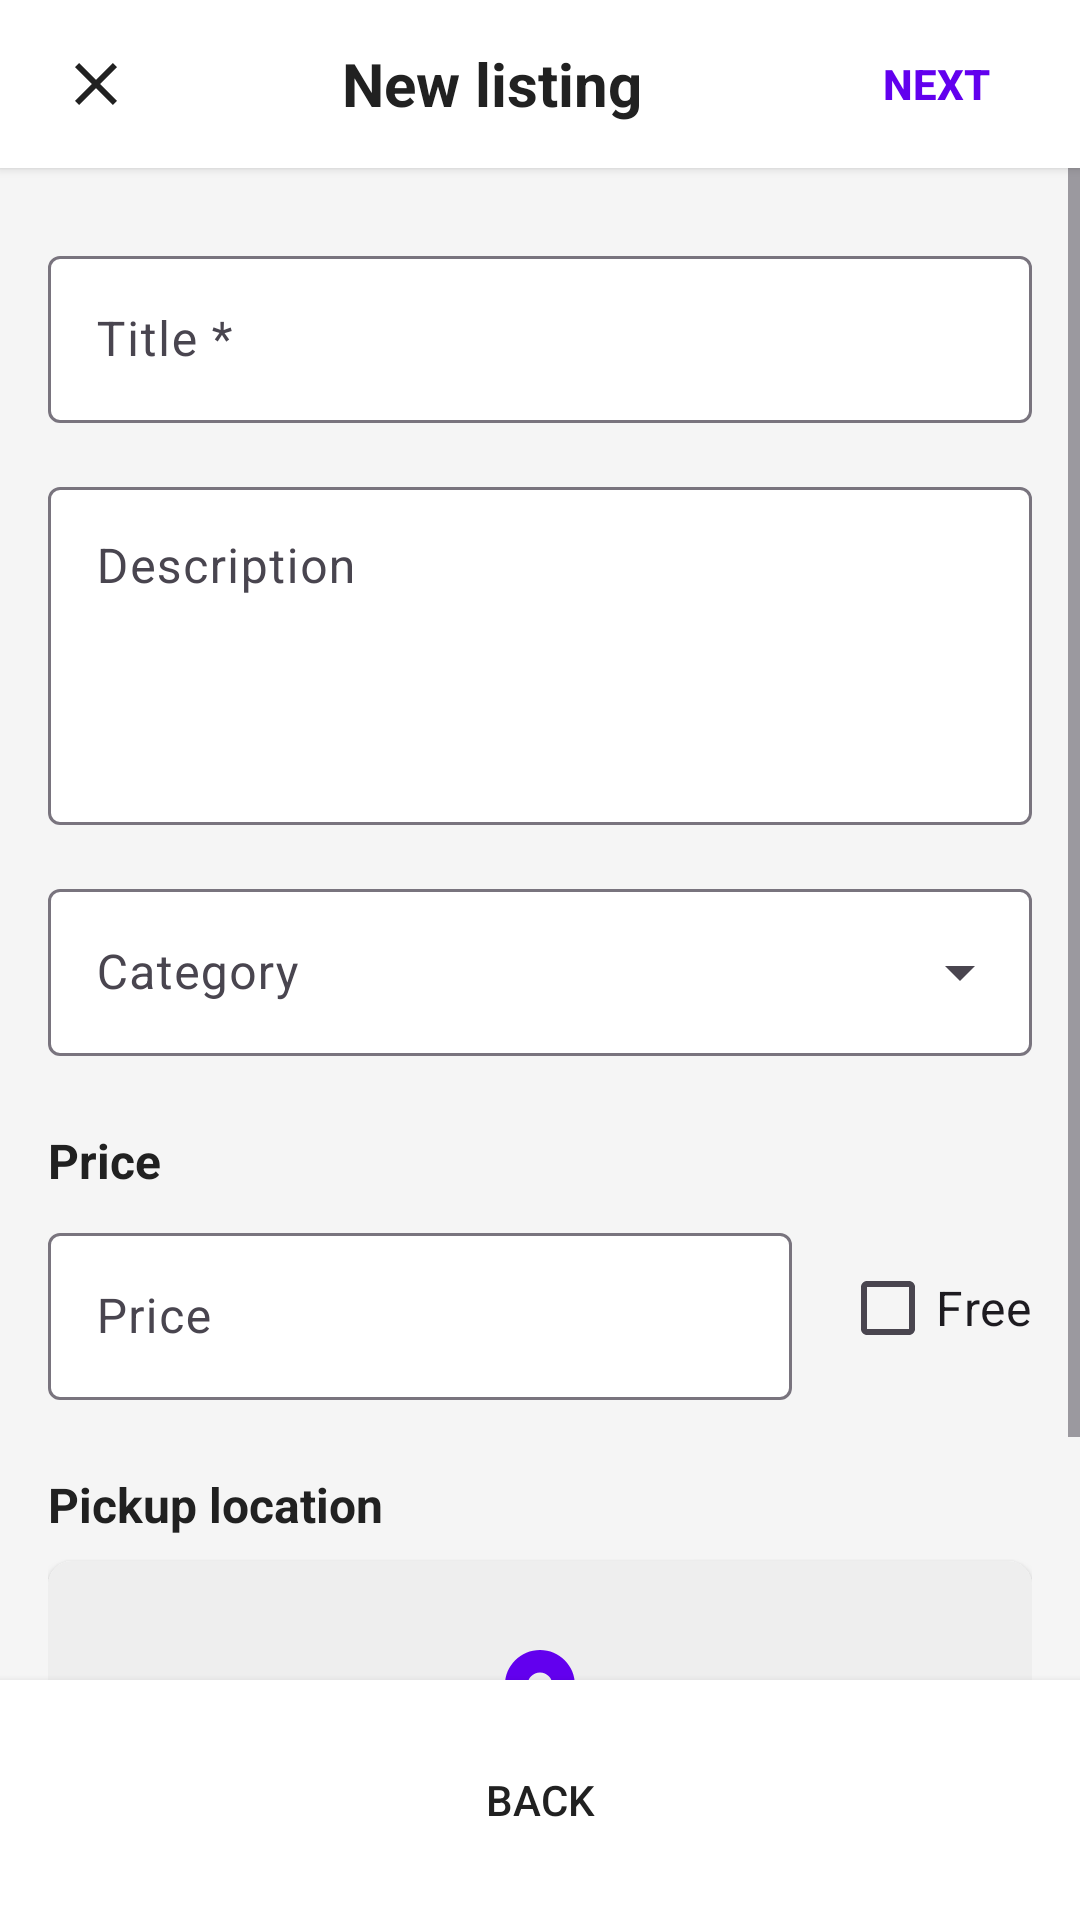

Icons on this 1080 x 1920 Android screen, each with its box as (x1, y1, x2, y2):
Close: (75, 63, 117, 105)
